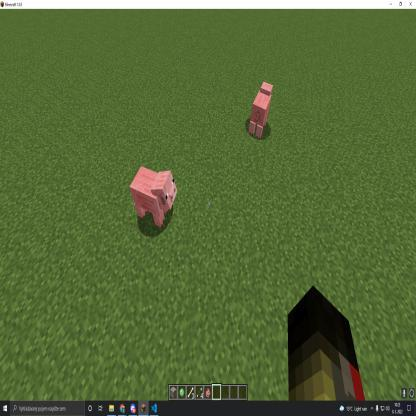pig: (126, 155, 179, 238), (243, 72, 278, 146)
